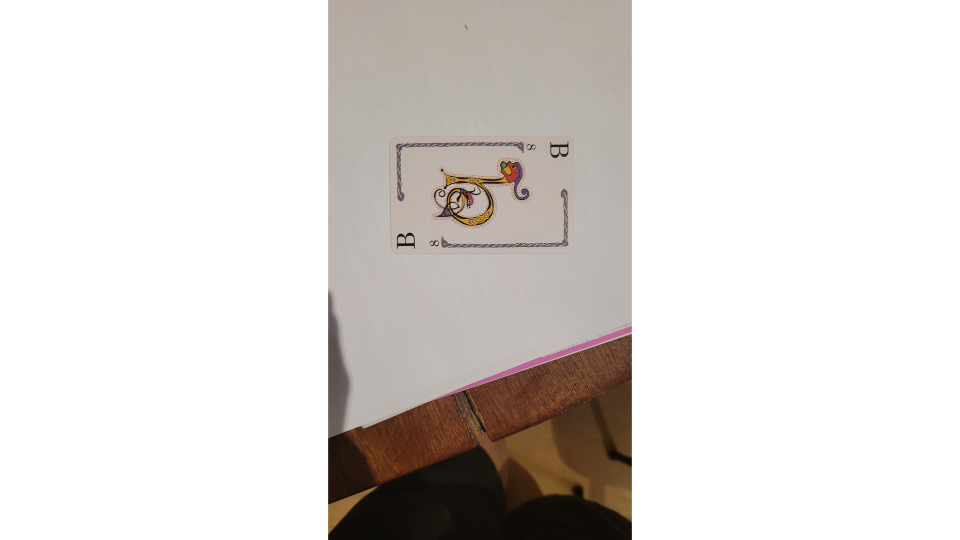B: (386, 133, 577, 257)
